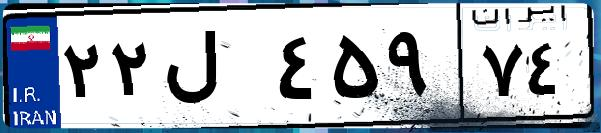2: (57, 26, 110, 100), (110, 28, 158, 98)
4: (270, 28, 330, 110), (525, 38, 570, 115)
5: (330, 28, 385, 110)
7: (475, 38, 525, 113)
9: (385, 28, 445, 110)
ل: (158, 20, 270, 120)
